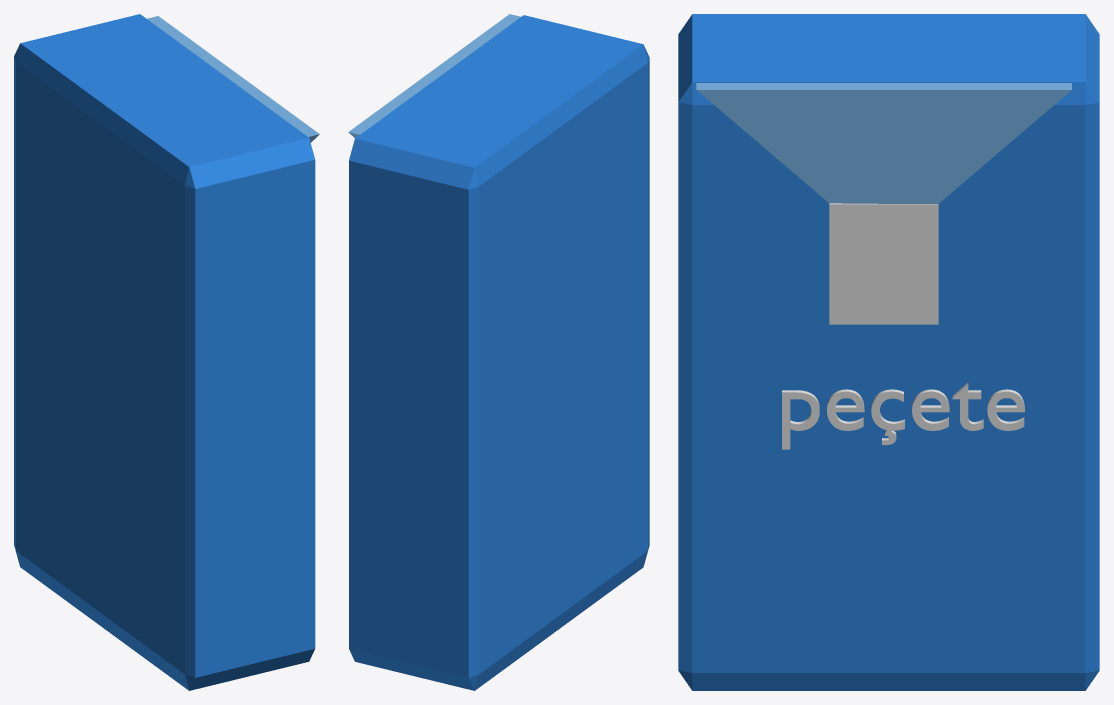
File: pecete.fbx
3 renders of one model, left to right at view 1: azimuth 30°, elevation 25°; view 2: azimuth 150°, elevation 25°; view 3: azimuth 270°, elevation 25°, orthographic. The views are drawn at different scales.
Visible parts, largest first — view 1: Cube, Cube.003; view 2: Cube, Cube.003; view 3: Cube, Cube.003, Cube.001, Text.
Part boxes in pixels (x1,y1,x2,y2): Cube: (14, 14, 315, 690); Cube.003: (147, 16, 319, 142); Cube: (349, 15, 649, 690); Cube.003: (348, 14, 520, 138); Cube: (678, 14, 1099, 690); Cube.003: (696, 83, 1071, 203); Cube.001: (829, 203, 938, 324); Text: (782, 382, 1024, 449).
Size of the model in its own units: 138 by 502 by 315.
